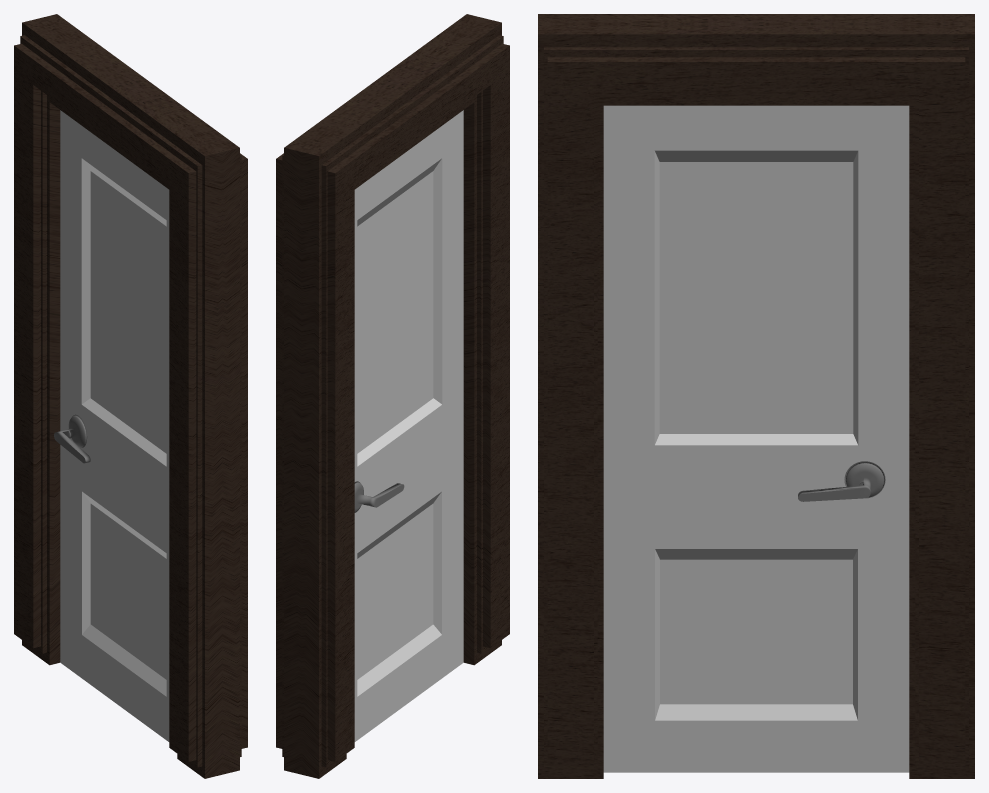
The model's file is usa (5).fbx.
3 renders of one model, left to right at view 1: azimuth 30°, elevation 25°; view 2: azimuth 150°, elevation 25°; view 3: azimuth 270°, elevation 25°, orthographic. The views are drawn at different scales.
Visible parts, largest first — view 1: Tocu, Usa; view 2: Tocu, Usa; view 3: Usa, Tocu.
Part boxes in pixels (left/top/right/bottom): Tocu: left=14, top=14, right=247, bottom=778; Usa: left=54, top=110, right=169, bottom=741; Tocu: left=276, top=14, right=509, bottom=778; Usa: left=354, top=110, right=463, bottom=741; Usa: left=603, top=105, right=909, bottom=772; Tocu: left=538, top=14, right=974, bottom=778.
Bounding box in the file's own units: 22.08 × 221 × 118.
